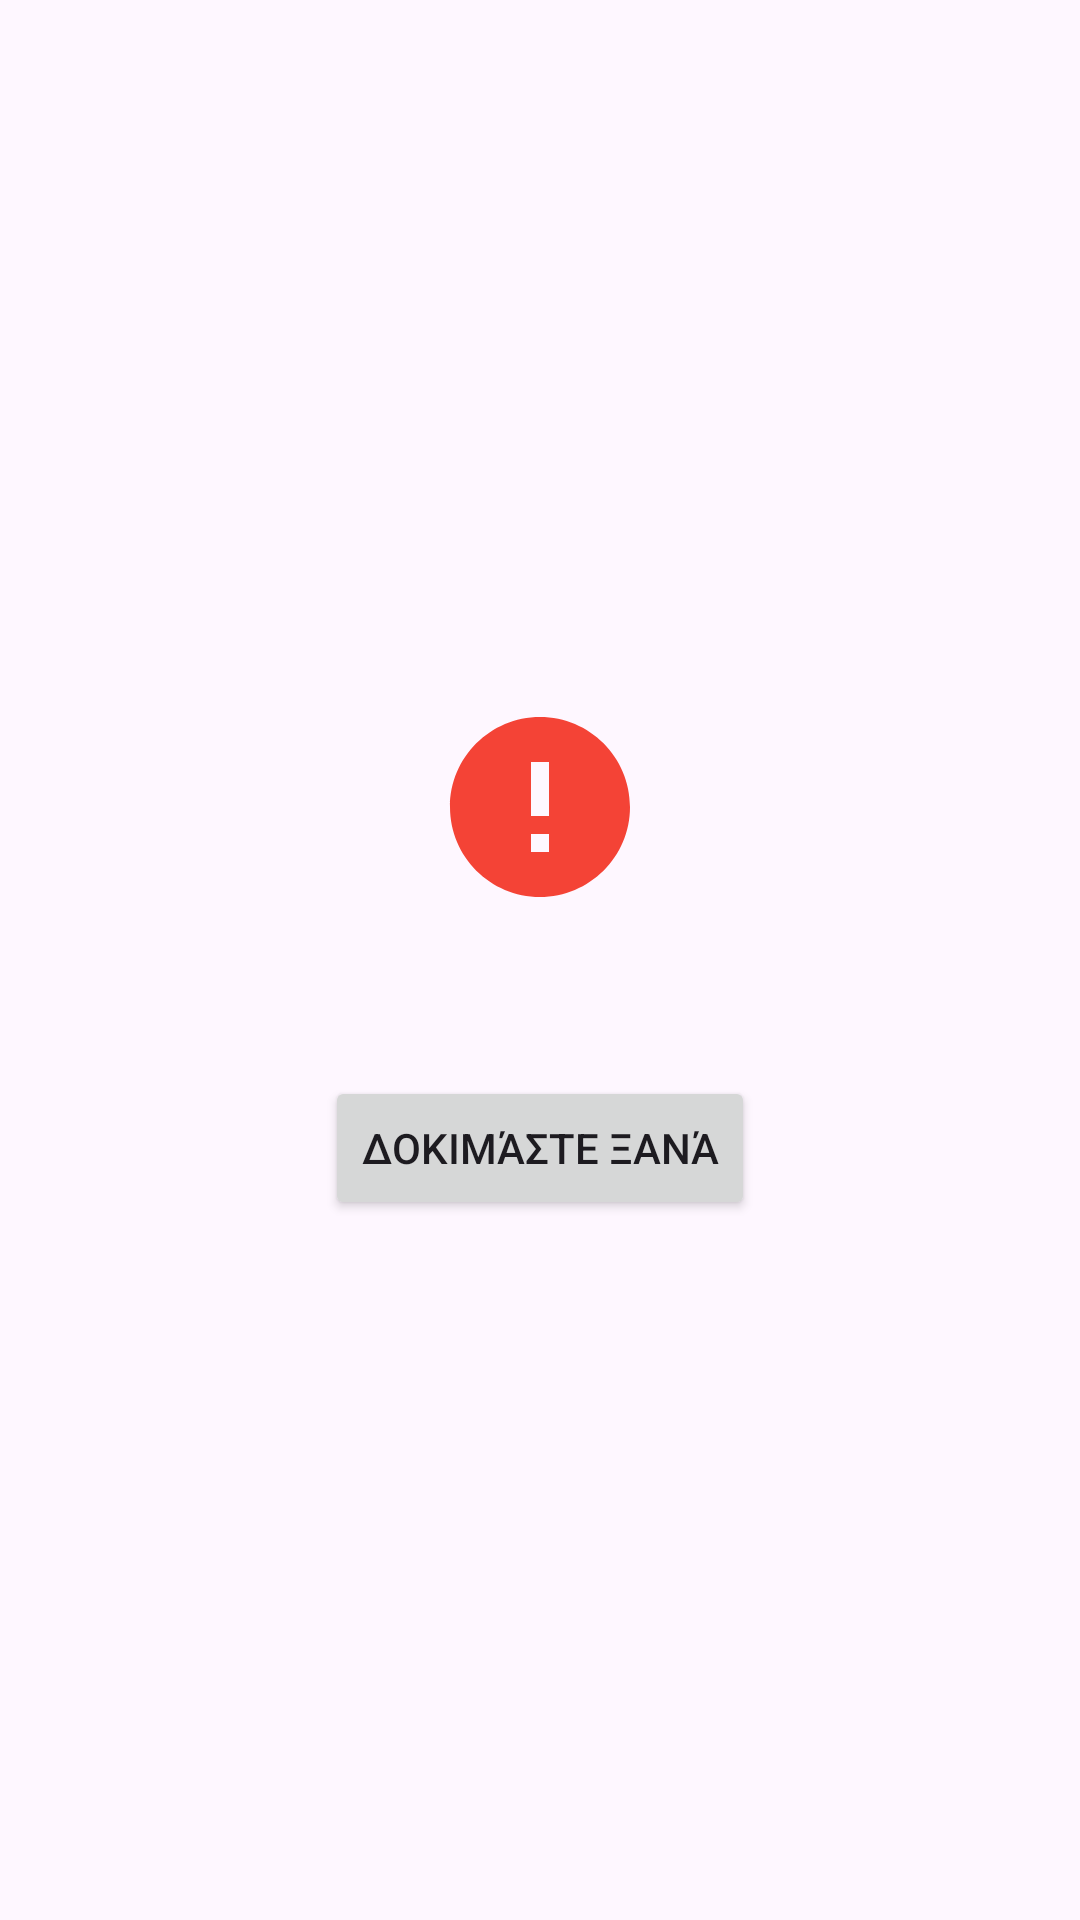

Icon bounding boxes for this 1080w x 1920h phone screenshot, format (x1, y1, x2, y2):
error: (450, 717, 630, 897)
